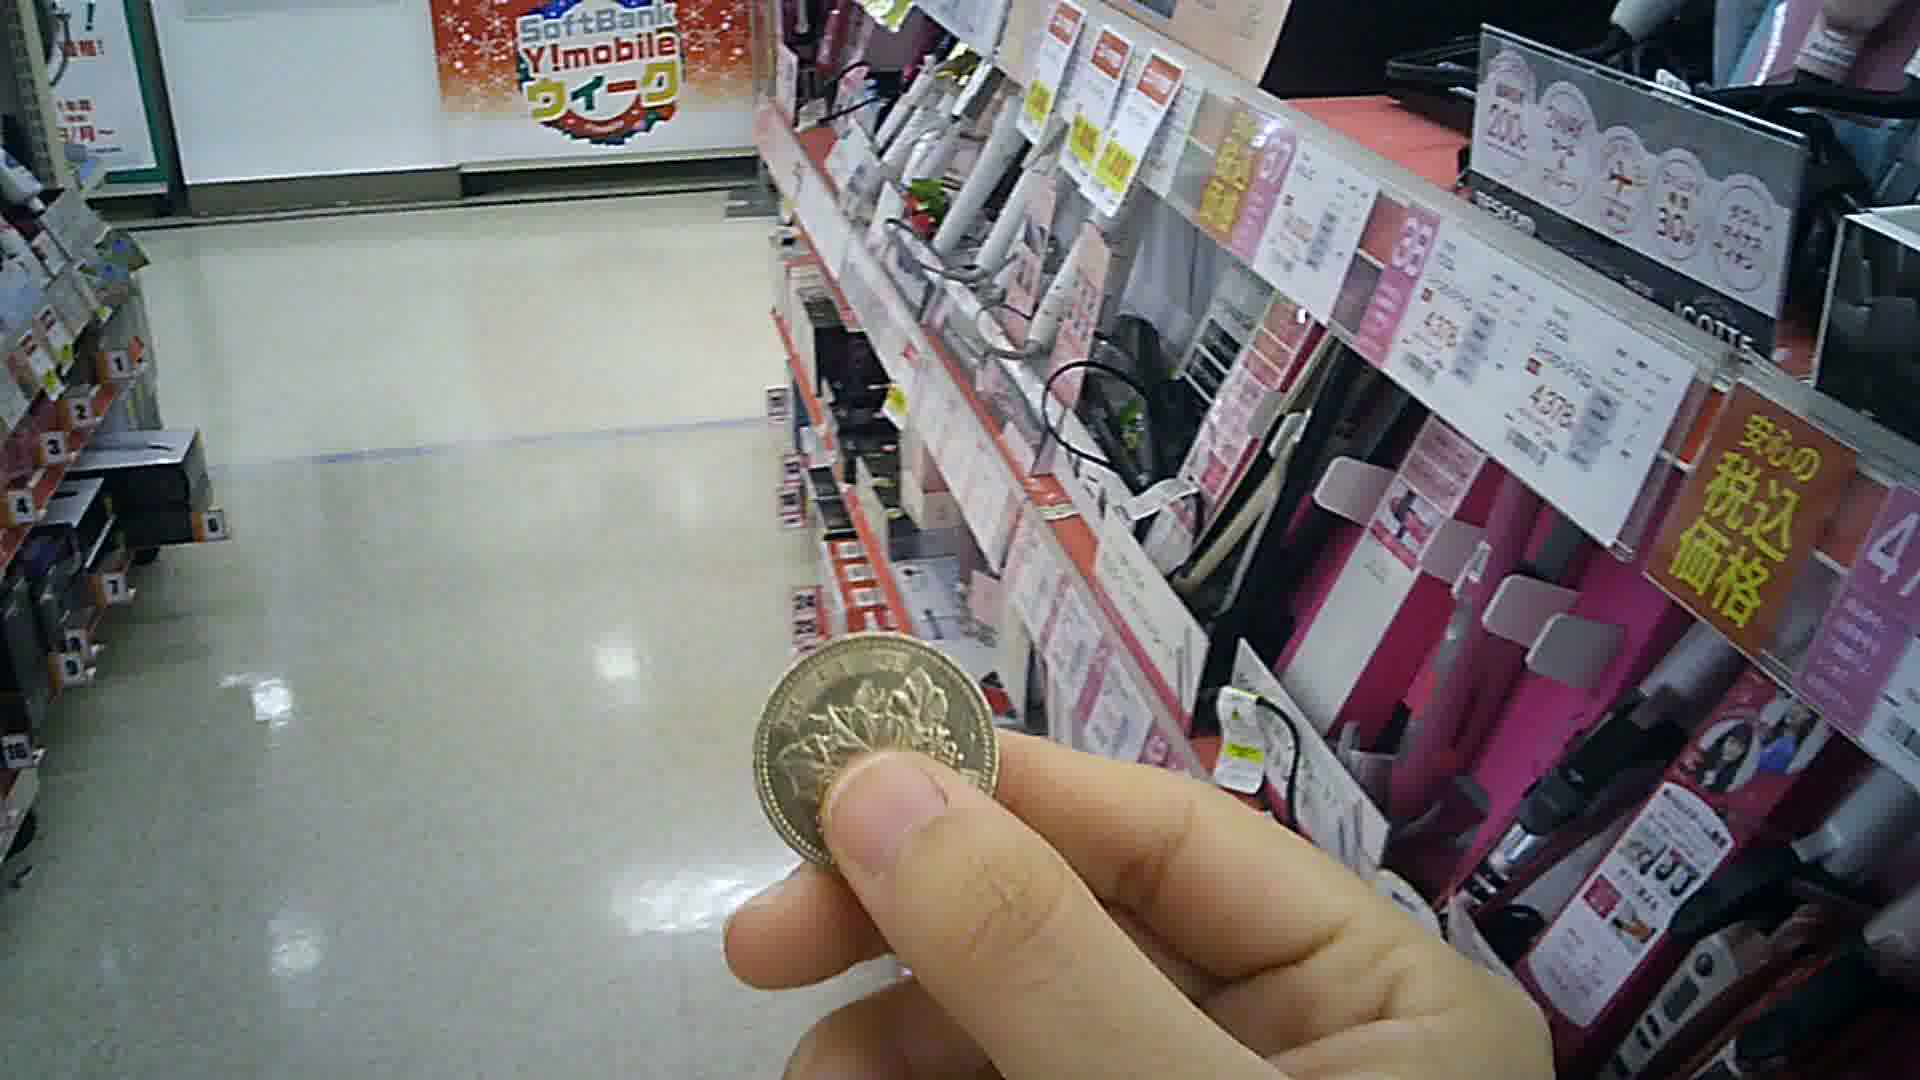500 Yen: (749, 621, 1002, 885)
